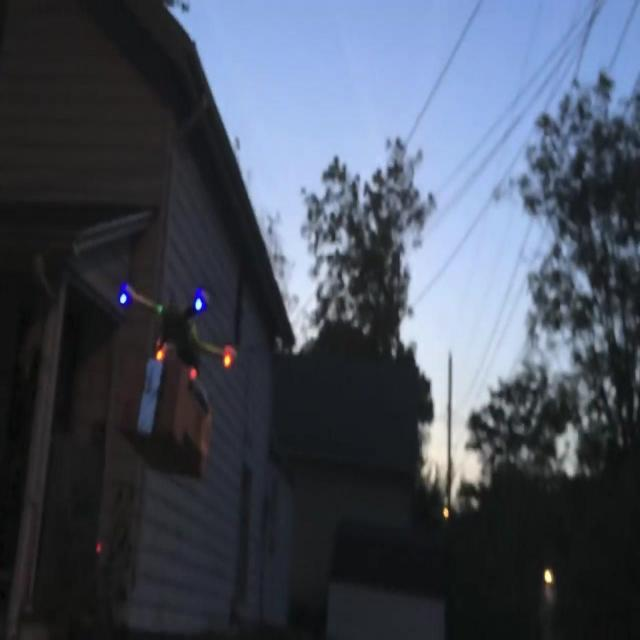UAV: (118, 282, 238, 480)
